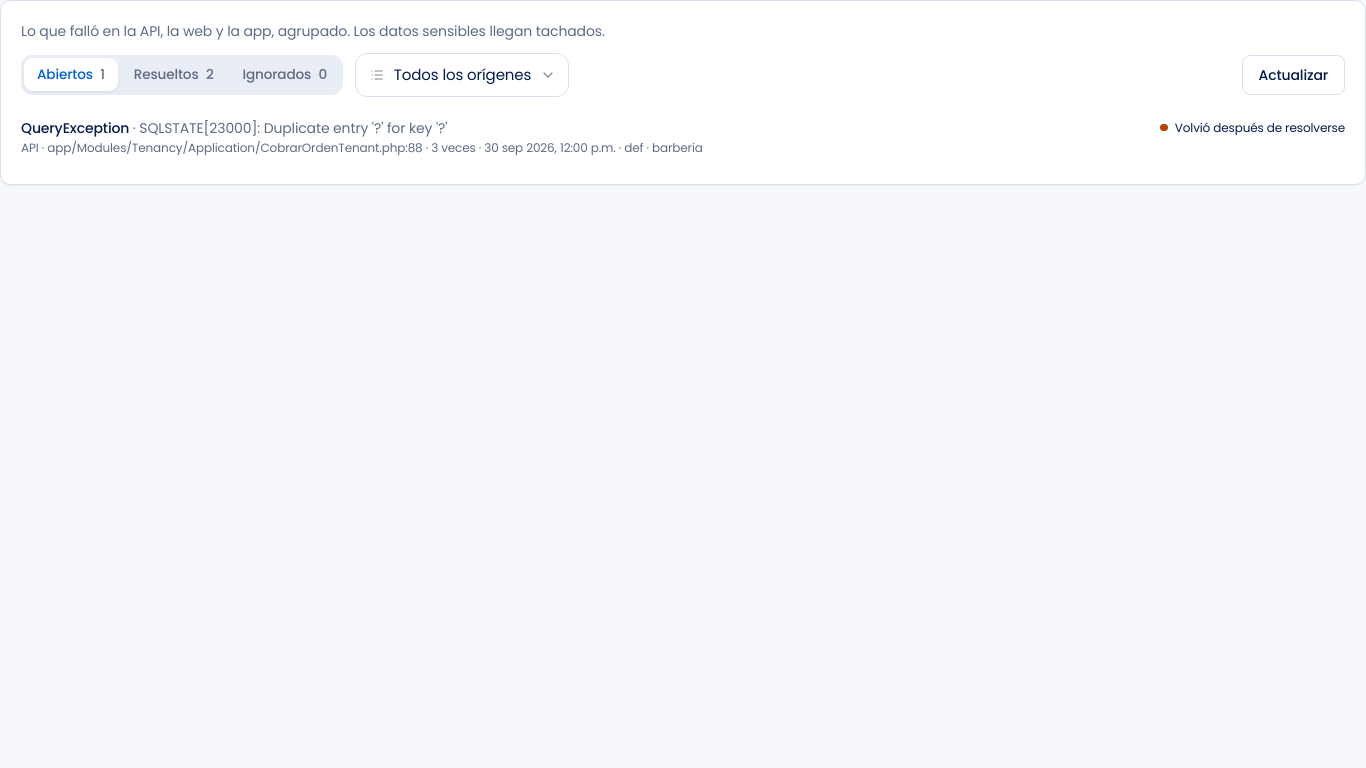
Scenario: errores de la plataforma › abre el detalle con traza y contexto, y lo marca resuelto
The width and height of the screenshot is (1366, 768).
Click the button that starts with "QueryException" at (683, 137), box [21,109,1345,164]
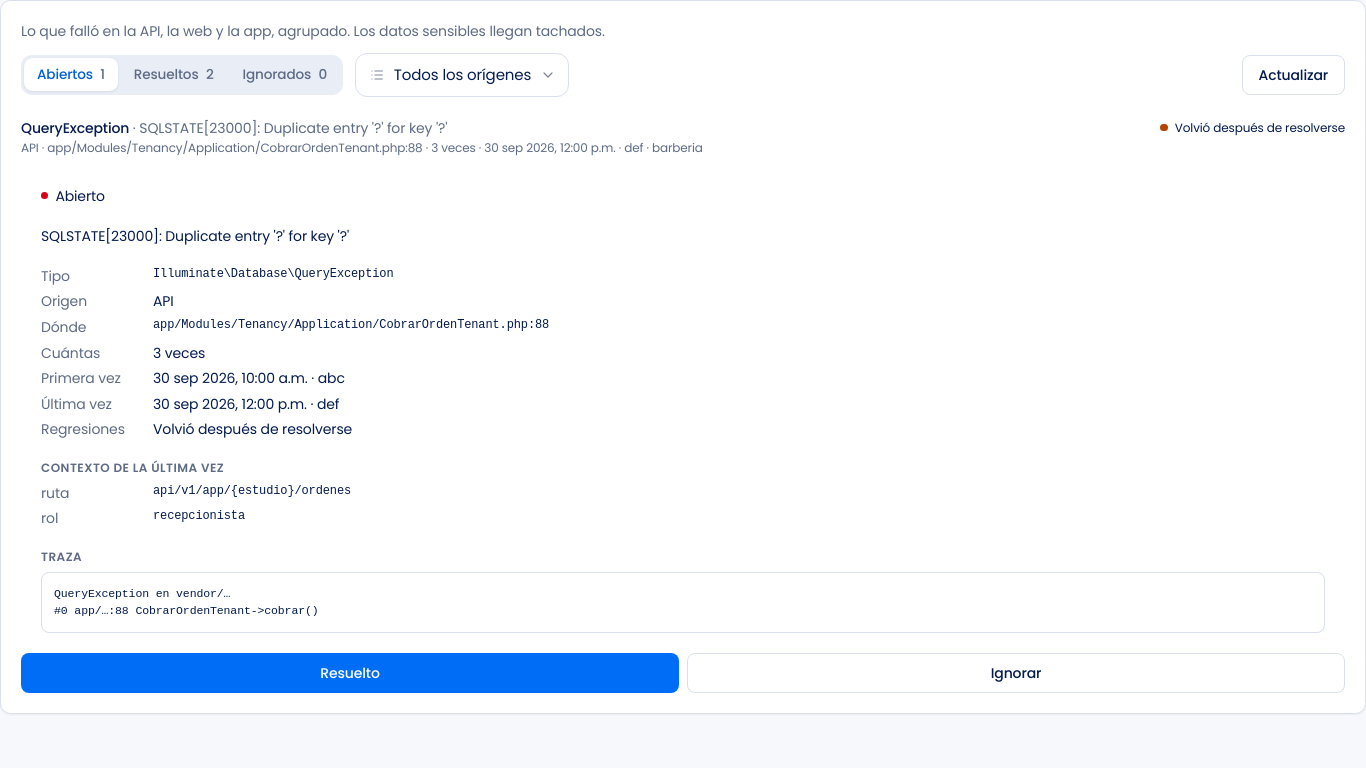
expect the text "CobrarOrdenTenant->cobrar()" is shown: met, box [54,587,318,617]
expect the element showing "ruta api/v1/app/{estudio}/ordenes rol recepcionista" is shown: met, box [41,483,351,528]
Click the button "Resuelto" at (350, 672), box [21,652,679,692]
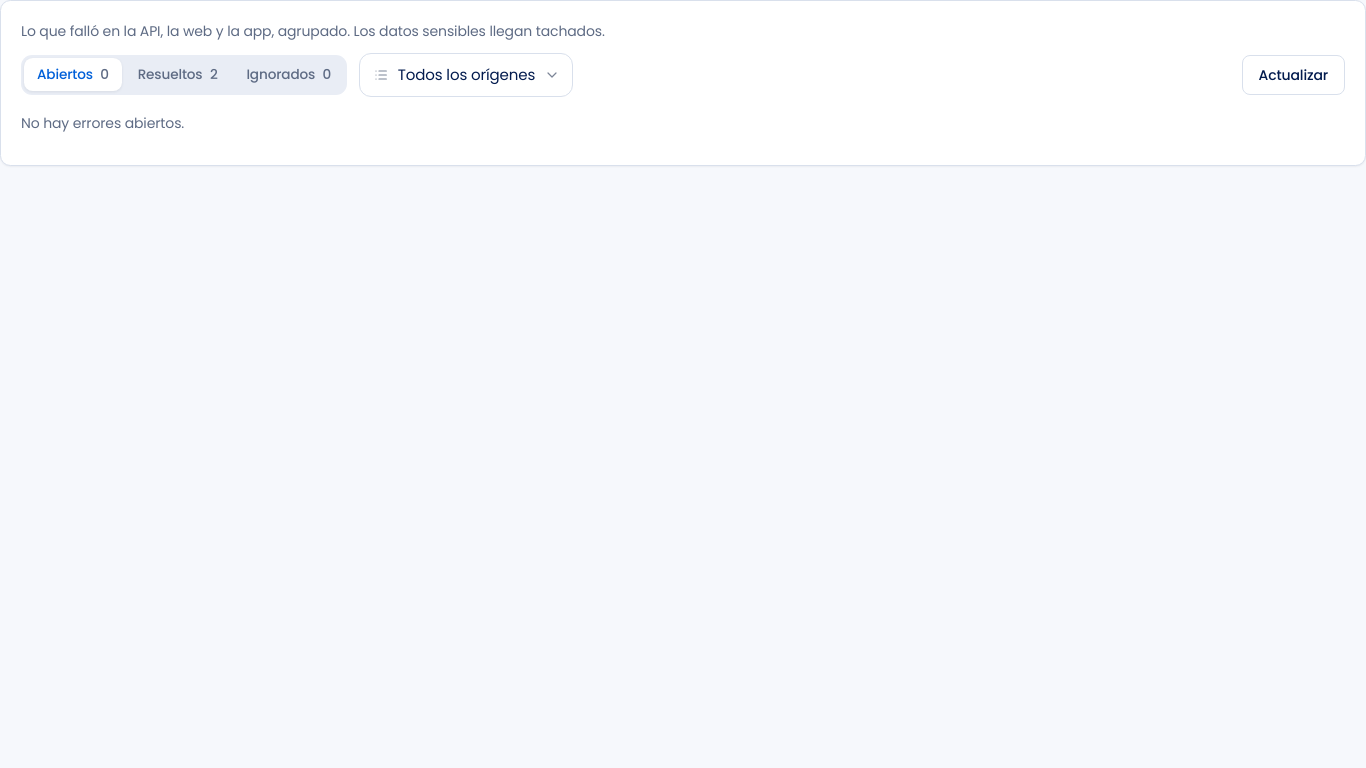
expect the text "No hay errores abiertos." is shown: met, box [21,113,184,133]
